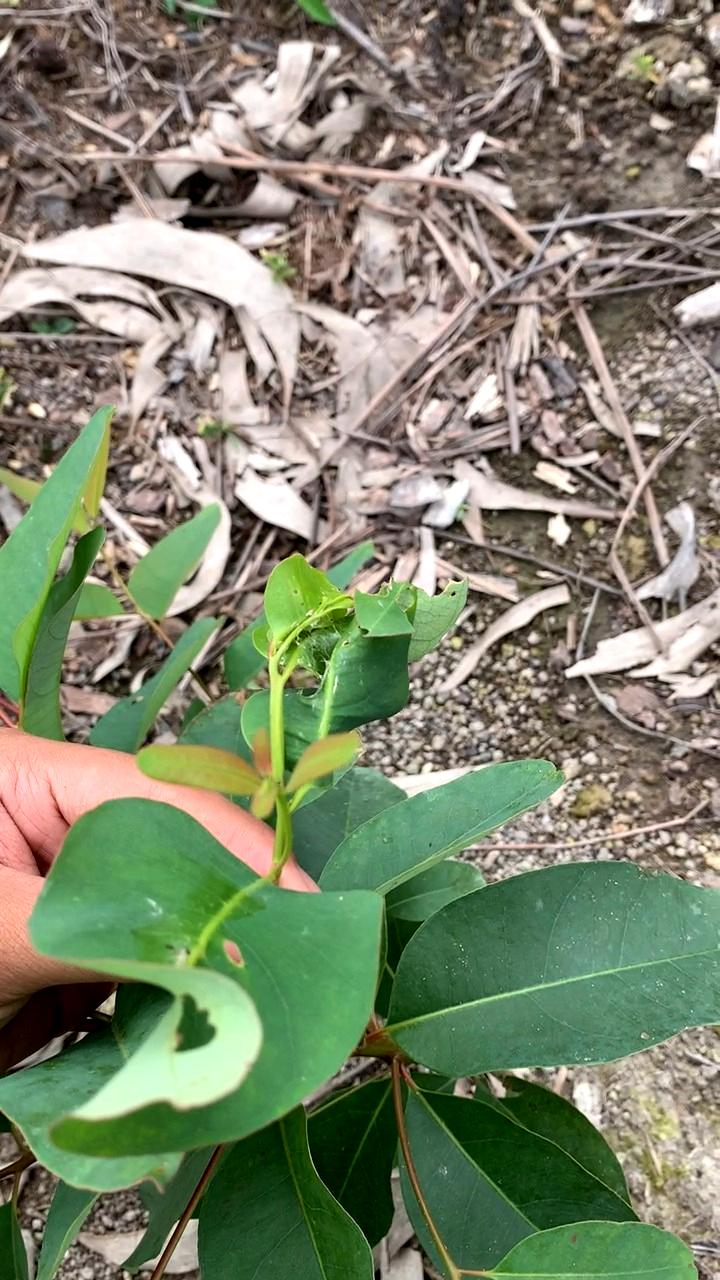Leaf Roller - Leaf: (239, 550, 440, 742)
